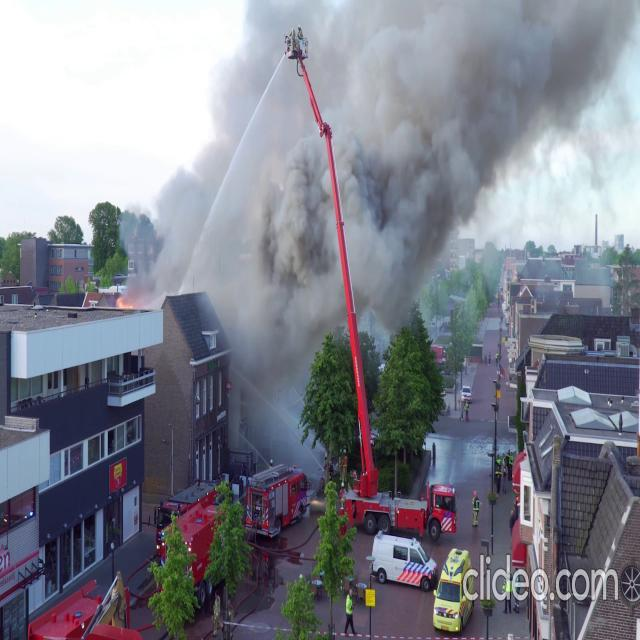Fire: (115, 287, 126, 313)
Smoke: (129, 0, 638, 380)
